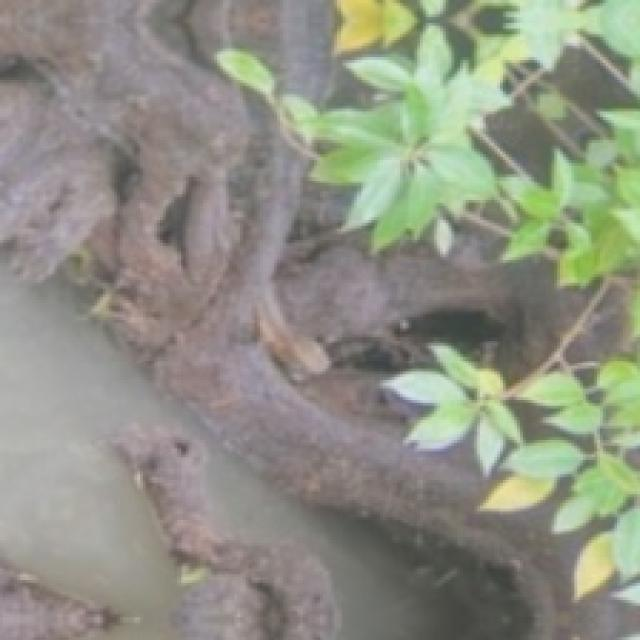king cobra: (0, 0, 637, 637), (114, 426, 334, 637), (0, 400, 174, 637), (280, 251, 557, 366), (0, 560, 120, 637)
